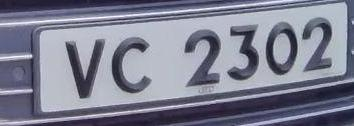0: (260, 13, 301, 81)
2: (176, 20, 225, 97), (296, 9, 337, 79)
3: (223, 16, 264, 88)
C: (106, 28, 161, 101)
V: (58, 33, 112, 109)
